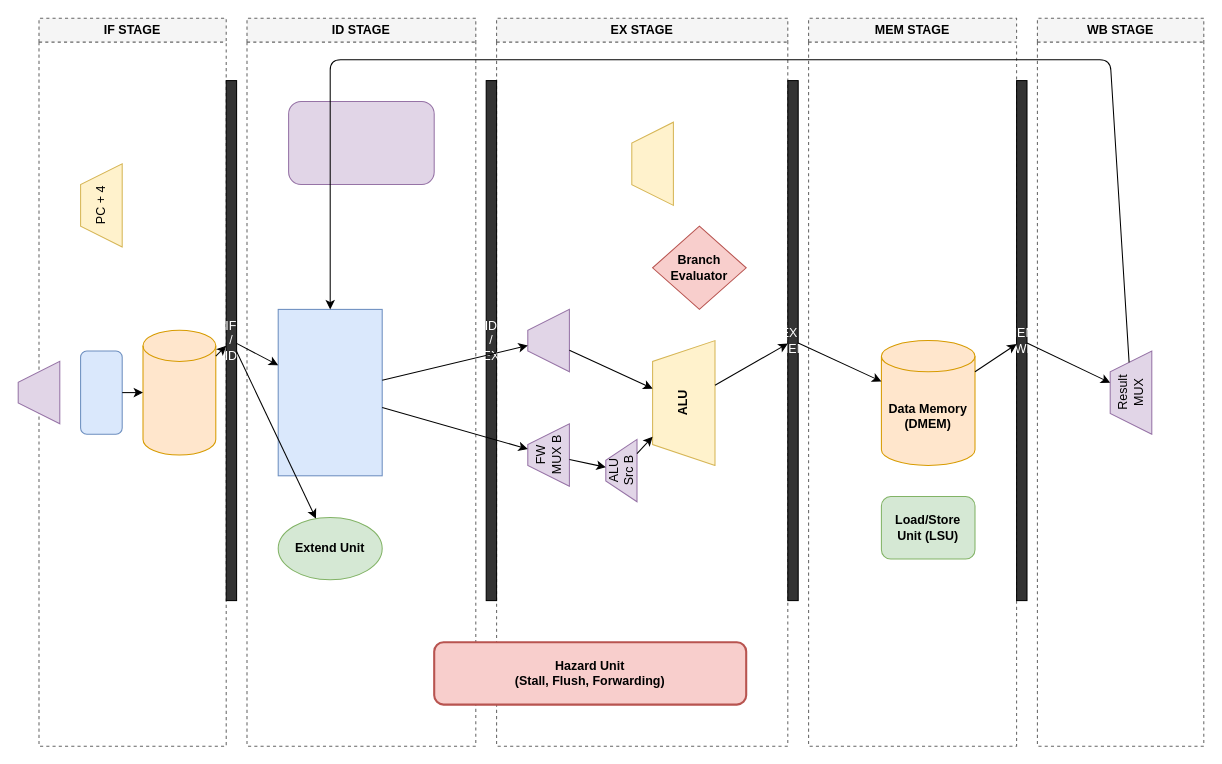
This 1222x764 diagram has some shape labels left out. The centre of each missing label's shape, as x and y in pixels:
"Controller (Main & ALU Decoder)" goes at point (361, 142).
"FW MUX A" goes at point (548, 340).
"Instruction Memory (IMEM)" goes at point (179, 392).
"PC MUX" goes at point (38, 392).
"PC Register" goes at point (101, 392).
"PC Target Adder" goes at point (652, 163).
"Register File (RegFile) RD1 RD2 A1 A2 A3 WD" goes at point (329, 392).
